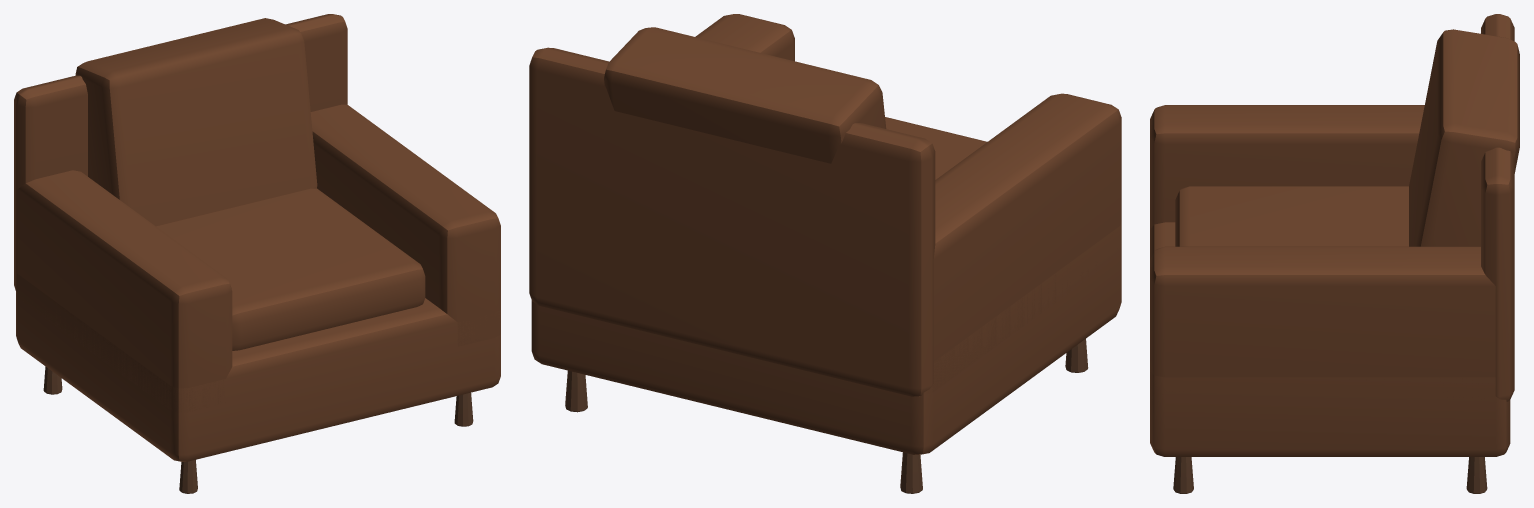
Rendered from bgd_sofa_1.glb.
3 views of the same model, side by side, from view 1: azimuth 30°, elevation 25°; view 2: azimuth 150°, elevation 25°; view 3: azimuth 270°, elevation 25° (orthographic). The views are drawn at different scales.
Visible parts, largest first — view 1: bgd_sofa_1; view 2: bgd_sofa_1; view 3: bgd_sofa_1.
Boxes of the visible parts, <box> form: bgd_sofa_1: <box>14,14,500,493</box>; bgd_sofa_1: <box>529,14,1121,493</box>; bgd_sofa_1: <box>1150,14,1519,493</box>.
Size of the model in its own units: 0.98 by 0.8978 by 0.8823.
